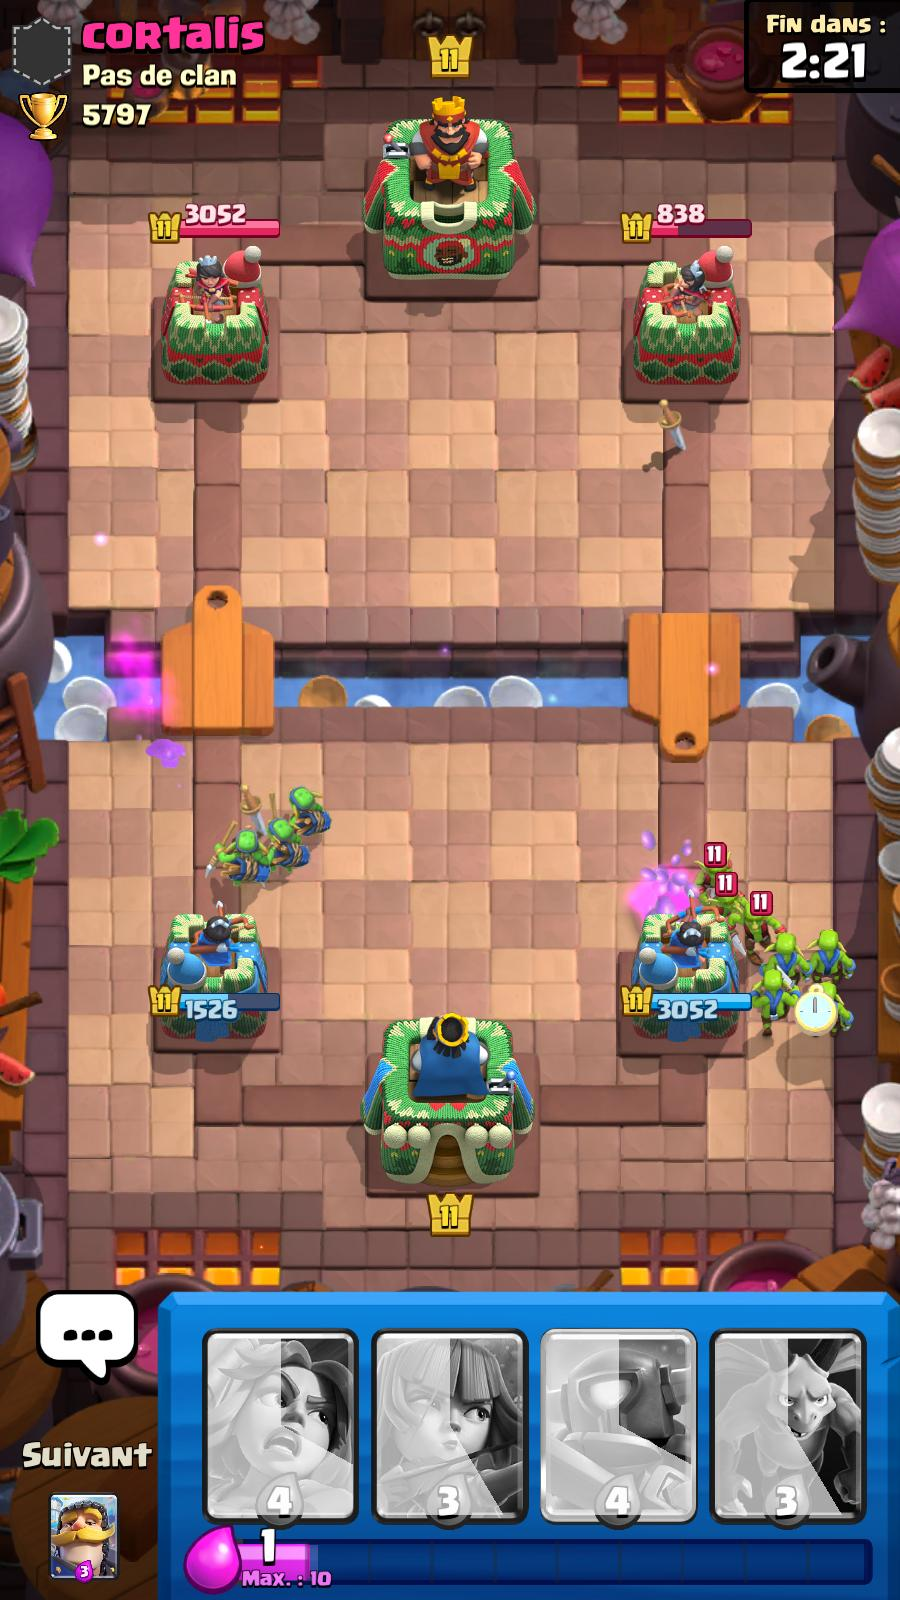gobelin: (804, 915, 871, 991), (722, 899, 784, 973), (748, 968, 802, 1051), (807, 982, 869, 1051), (759, 918, 814, 985), (677, 836, 742, 888), (698, 884, 763, 935)
gobelin_lances: (203, 823, 271, 896), (258, 807, 313, 880), (280, 778, 338, 844)
